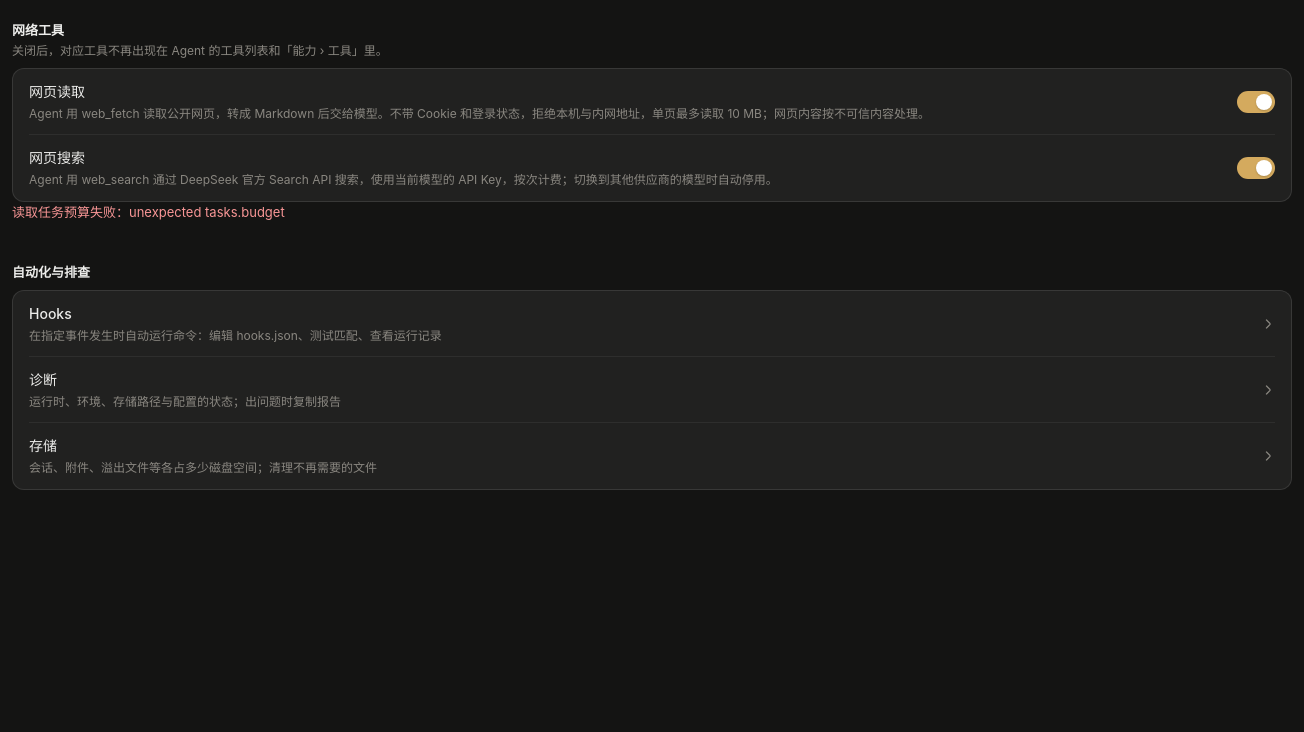
设置 › 高级 › 网络工具 › shows a failed save and keeps the switch where it was
What coordinates should you click on to do the following:
click the switch in the row of "网页搜索"
I would click on:
 (1256, 168)
Its box is [1237,157,1275,179].
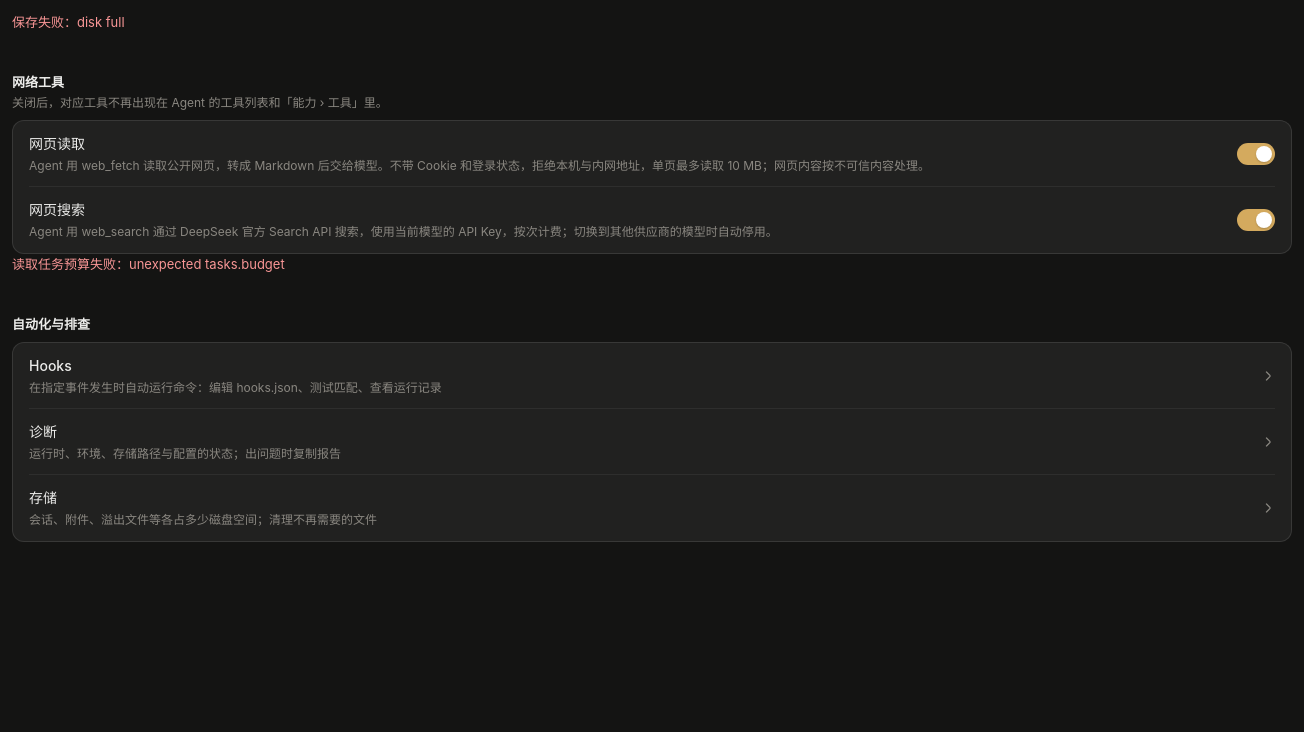
Expected: the message "保存失败：disk full" is shown, [12,14,125,30]
